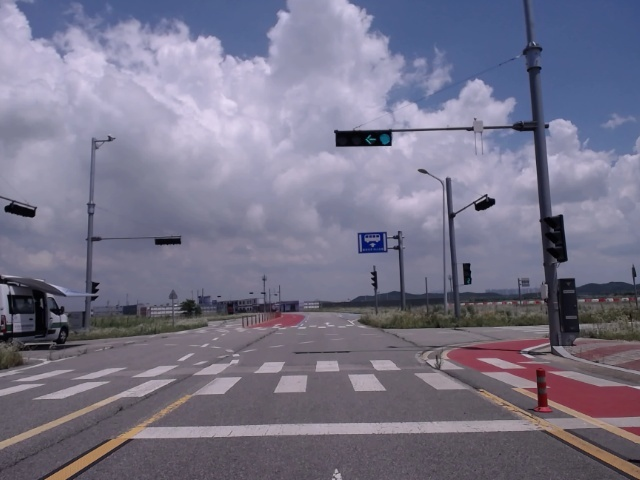all_green_4: (334, 132, 393, 146)
